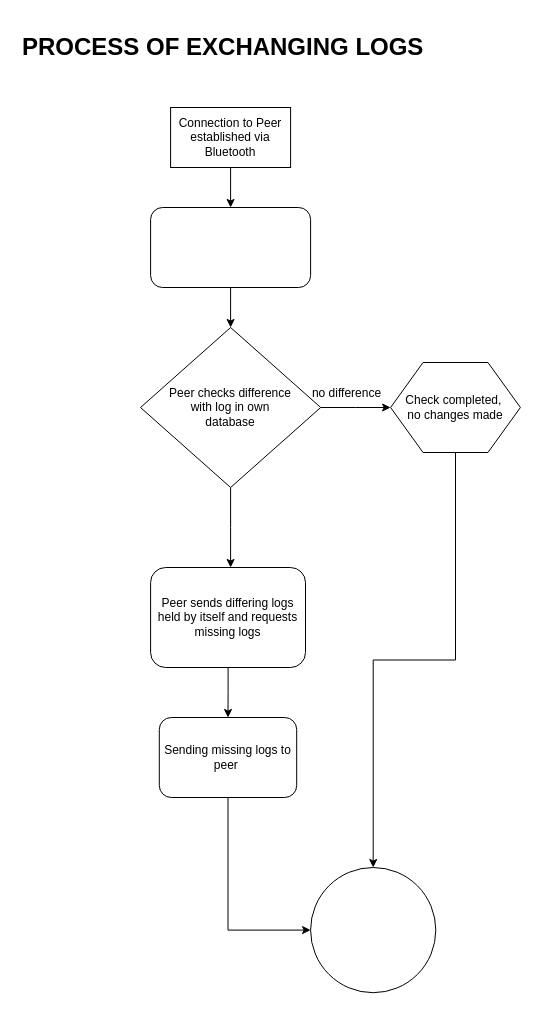
Image size: 538x1010. Some labels were removed from this diagram. Here are the shapes that lost their labels. From the top down, the centre of each, then its label:
At (x=230, y=247): "Sending list with ids of available to Peer".
At (x=373, y=929): "Both databases have same logs".
